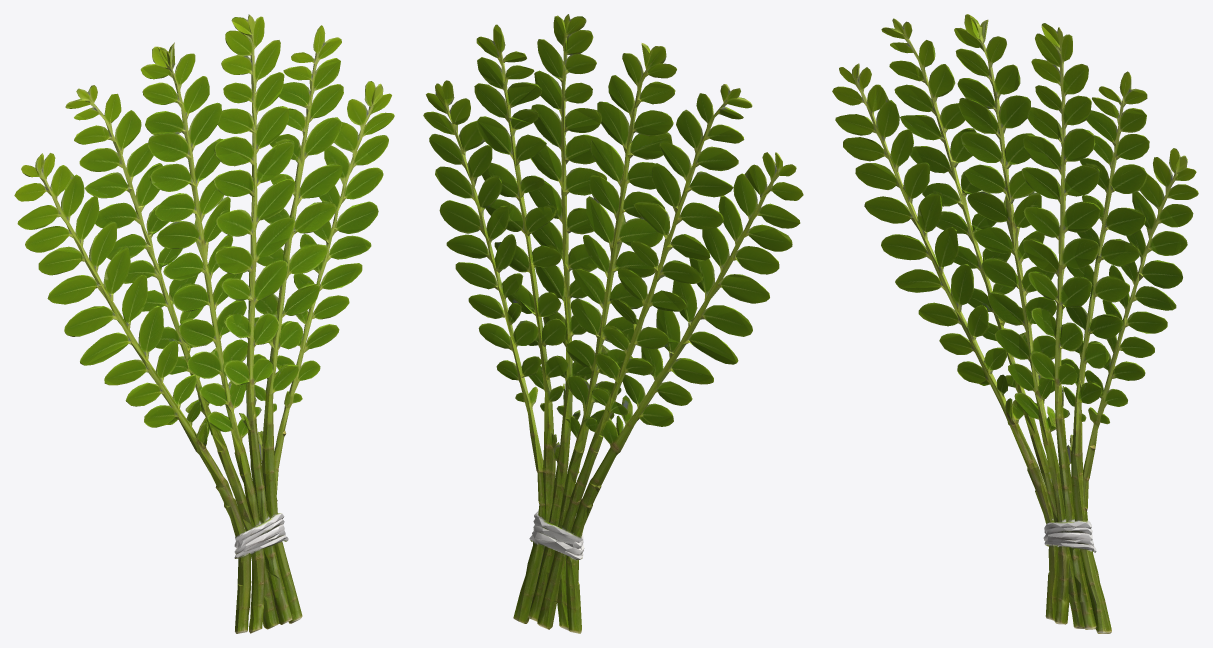
Rendered from remeshed-mayom.glb.
3 views of the same model, side by side, from view 1: azimuth 30°, elevation 25°; view 2: azimuth 150°, elevation 25°; view 3: azimuth 330°, elevation 25° (orthographic). The views are drawn at different scales.
Visible parts, largest first — view 1: output_unwrapped; view 2: output_unwrapped; view 3: output_unwrapped.
Boxes of the visible parts, box(x1,y1,x2,y2) form: output_unwrapped: box(14, 14, 394, 633); output_unwrapped: box(423, 14, 803, 633); output_unwrapped: box(832, 14, 1198, 633).
Size of the model in its own units: 1.22 by 1.9 by 0.0609.
Materials: 1 (1 with a texture image).
